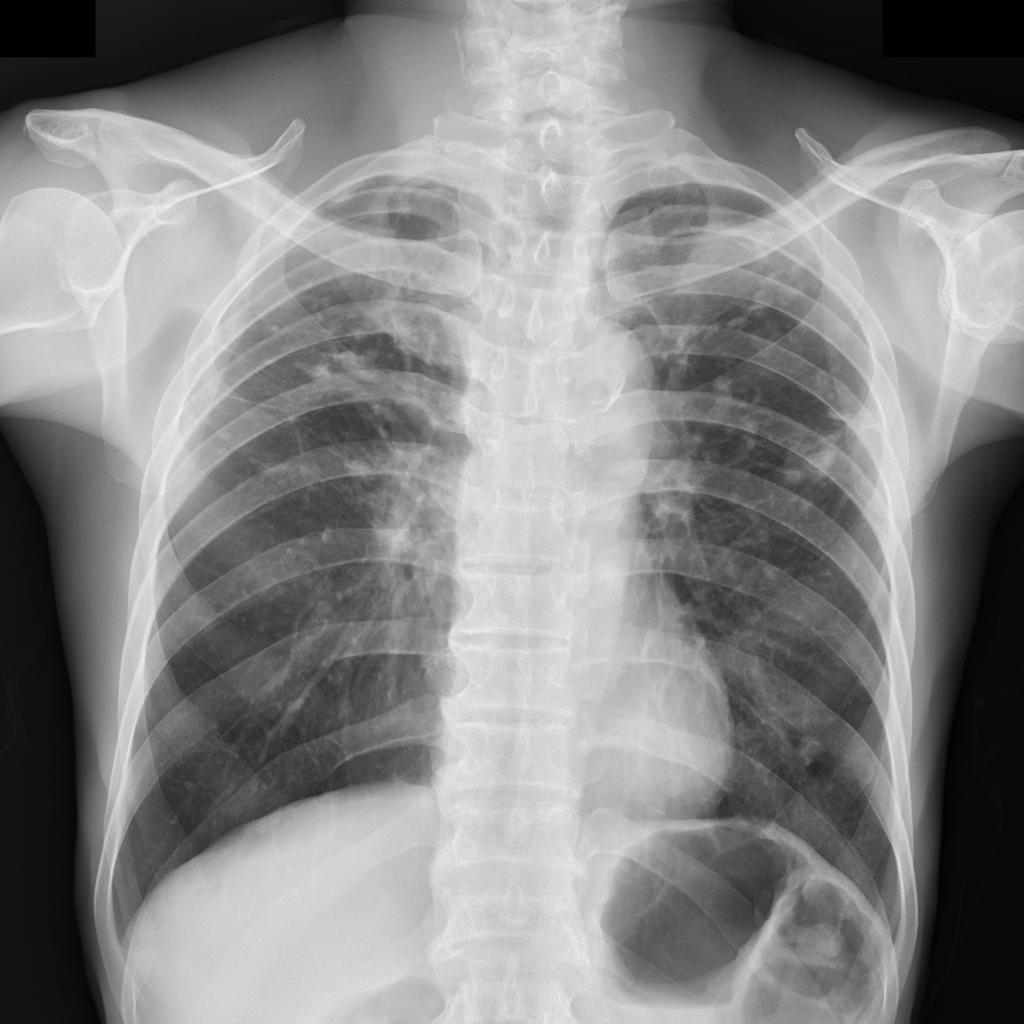Nodule: (791, 733, 820, 767)
